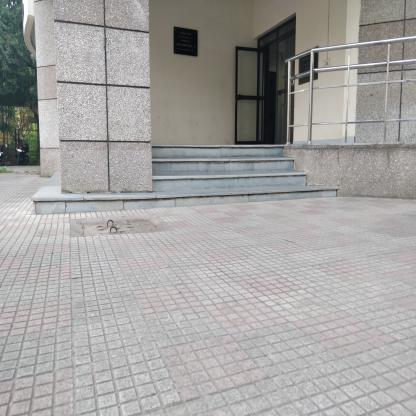stairs: (154, 144, 284, 210)
